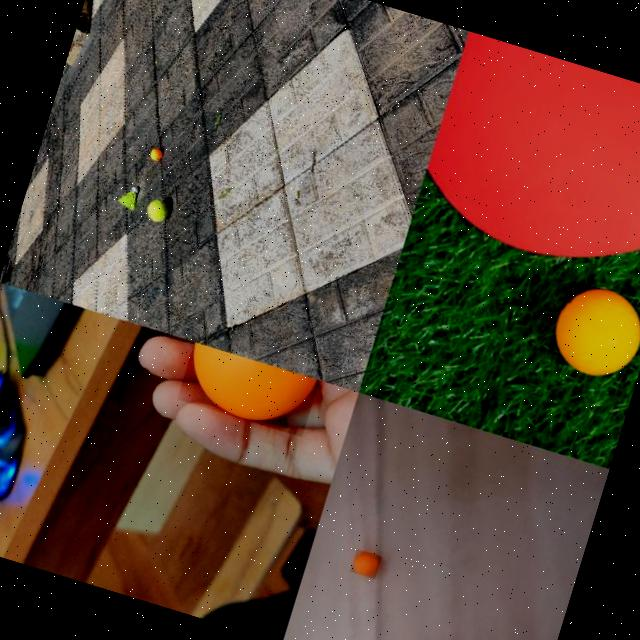ping-pong-ball: (176, 342, 320, 439), (543, 279, 640, 384), (348, 548, 382, 580), (146, 146, 161, 160)
